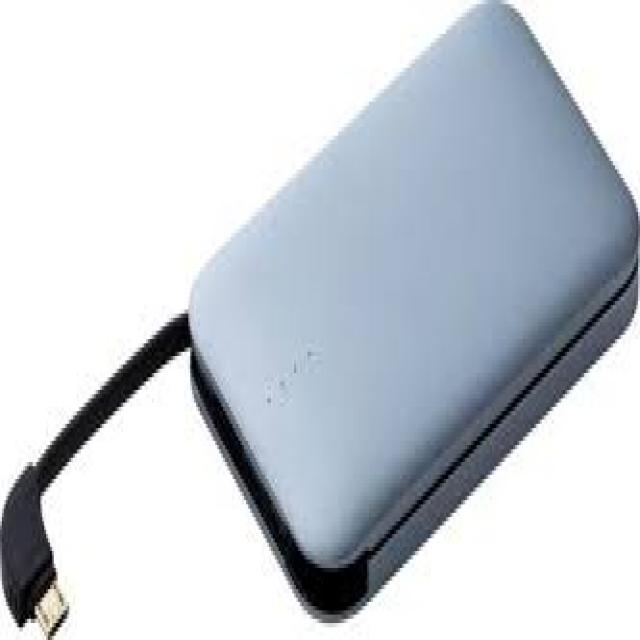non-organic waste: (189, 0, 640, 624)
